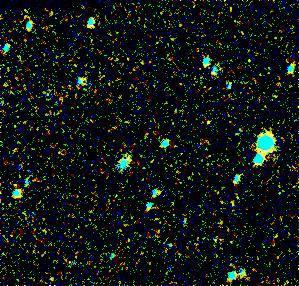star: (193, 109, 223, 139)
